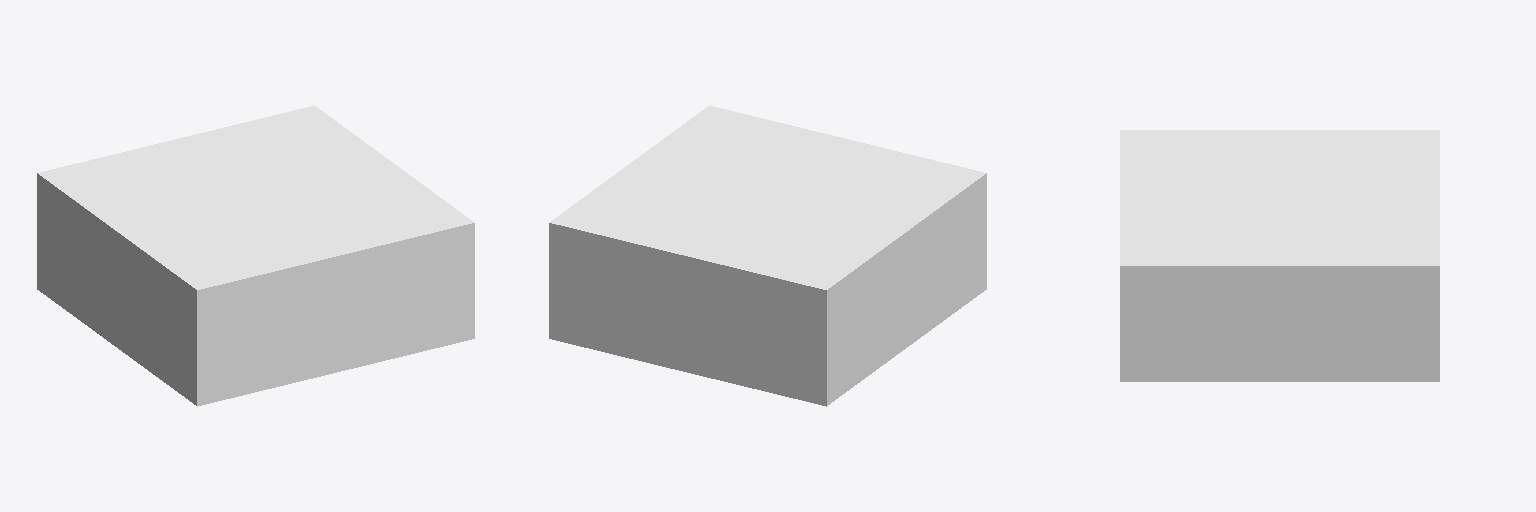
Rendered from grass_spots.obj.
3 renders of one model, left to right at view 1: azimuth 30°, elevation 25°; view 2: azimuth 150°, elevation 25°; view 3: azimuth 270°, elevation 25°, orthographic.
Visible parts, largest first — view 1: object 1; view 2: object 1; view 3: object 1.
Part boxes in pixels (x1,y1,x2,y2): object 1: (37, 105, 474, 406); object 1: (549, 105, 986, 406); object 1: (1120, 130, 1439, 381).
Bounding box in the file's own units: 1 × 0.4 × 1.